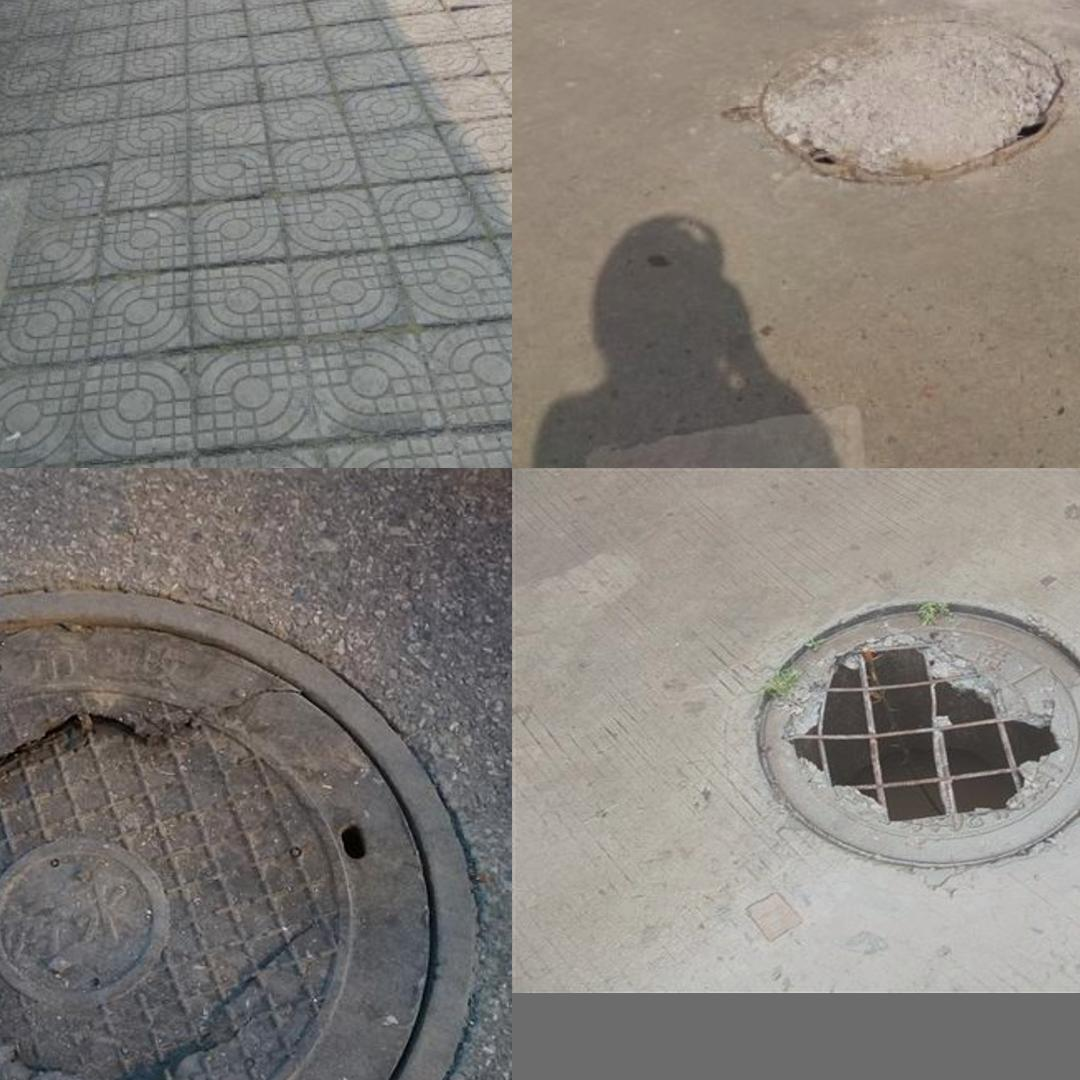broke: (0, 577, 470, 1080), (735, 590, 1080, 878), (727, 19, 1065, 183)
